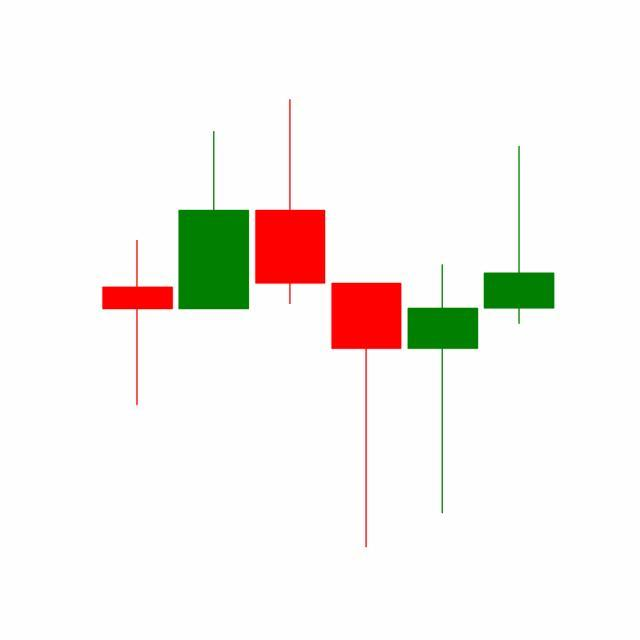Spinning Top: (404, 261, 482, 517)
